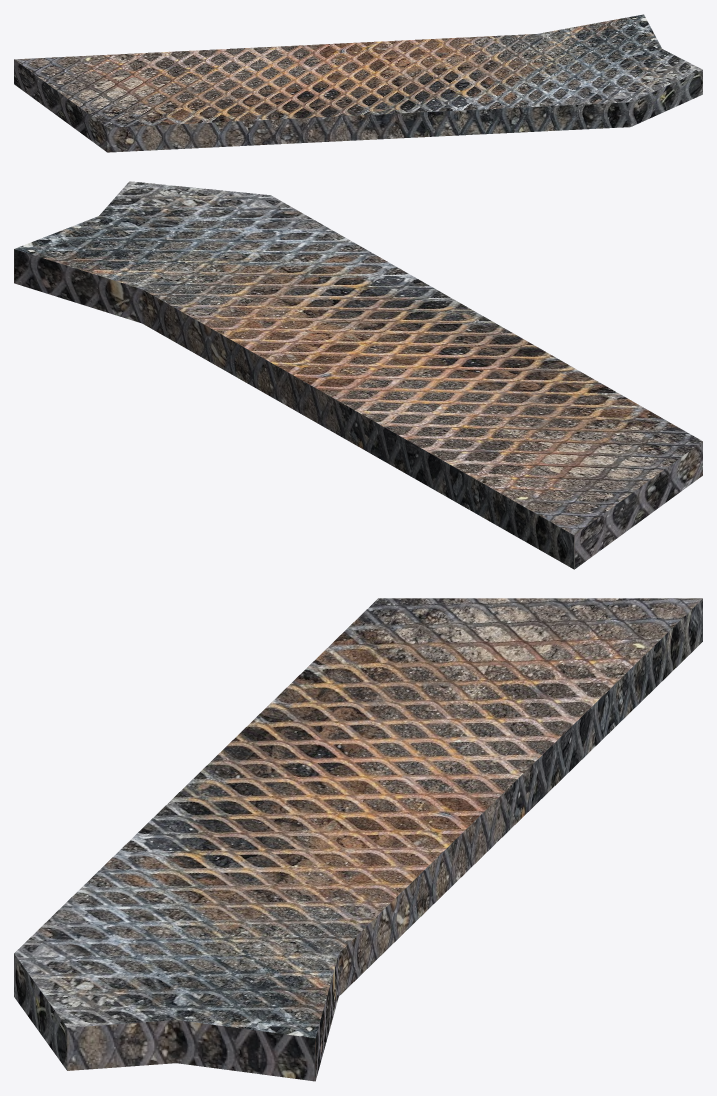
Rendered from ledge03.obj.
3 renders of one model, top to bottom at view 1: azimuth 30°, elevation 25°; view 2: azimuth 150°, elevation 25°; view 3: azimuth 270°, elevation 25°, orthographic. The views are drawn at different scales.
Visible parts, largest first — view 1: Plane.002; view 2: Plane.002; view 3: Plane.002.
Boxes of the visible parts, <box> form: Plane.002: <box>14,14,702,152</box>; Plane.002: <box>14,181,702,569</box>; Plane.002: <box>14,598,702,1081</box>.
Bounding box in the file's own units: 9.31 × 0.4268 × 6.17.
